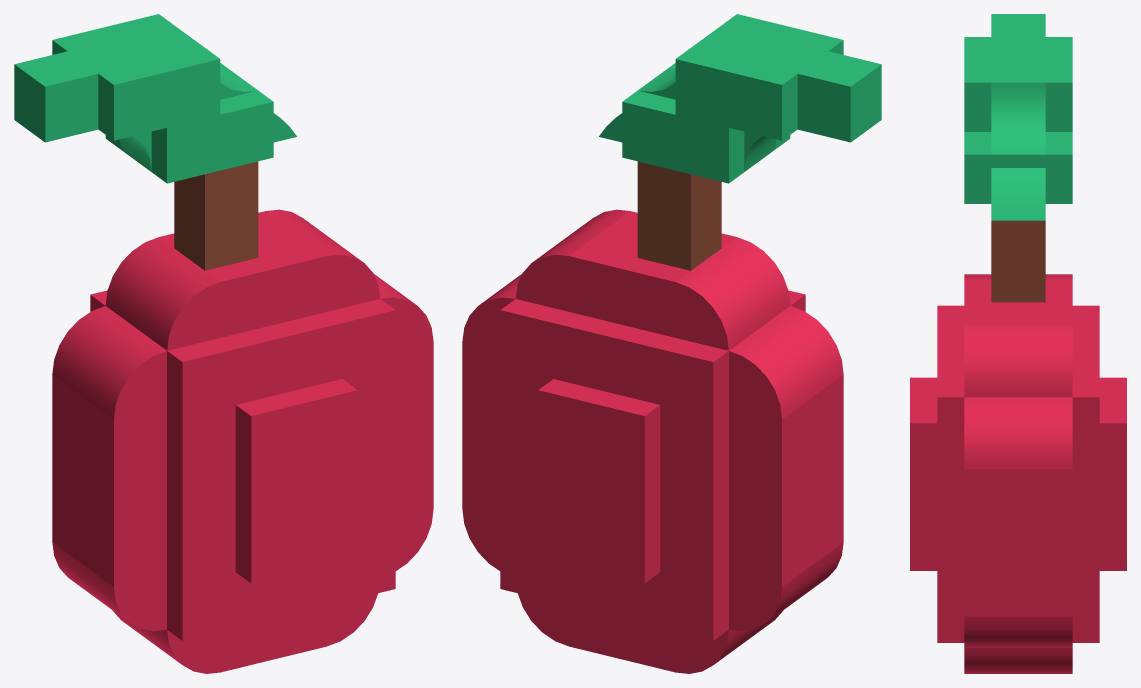
Rendered from apple.obj.
3 views of the same model, side by side, from view 1: azimuth 30°, elevation 25°; view 2: azimuth 150°, elevation 25°; view 3: azimuth 270°, elevation 25° (orthographic). The views are drawn at different scales.
Size of the model in its own units: 7 by 11 by 4.
